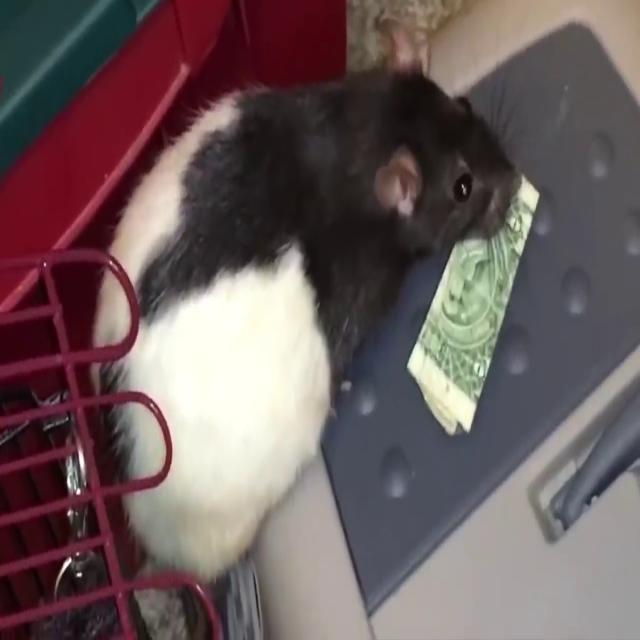rat: (96, 31, 520, 554)
